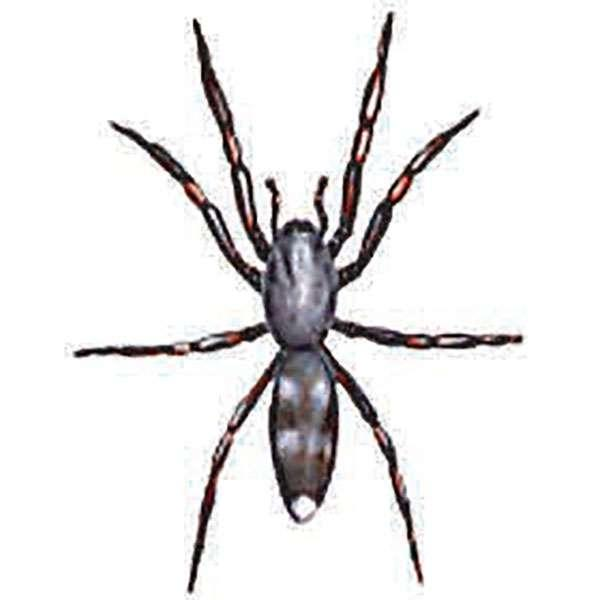White-Tailed Spider: (104, 17, 522, 584)
